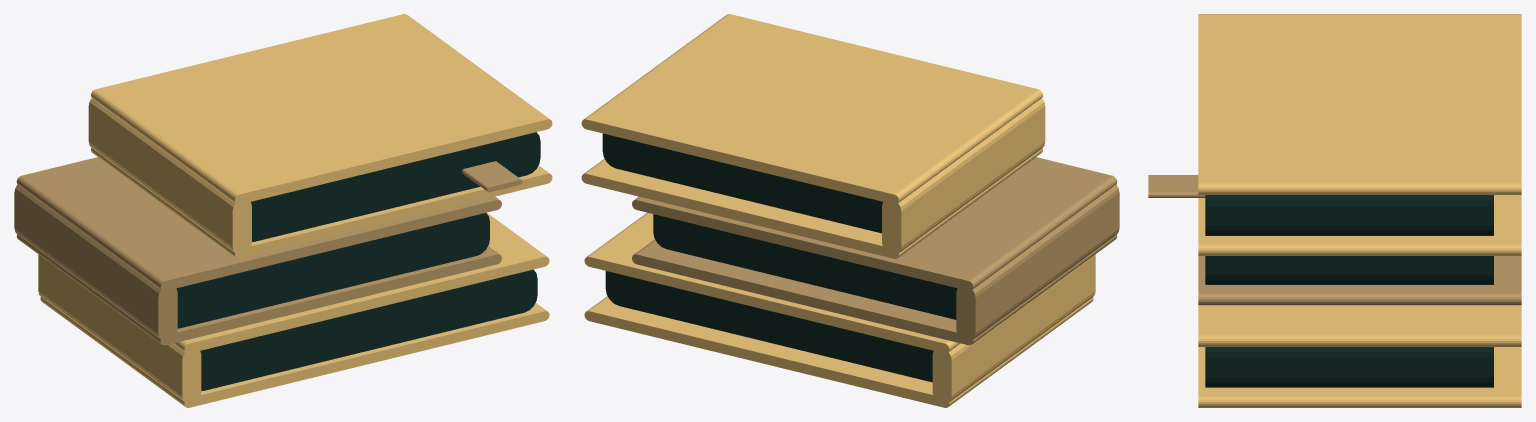
Rendered from books.glb.
3 views of the same model, side by side, from view 1: azimuth 30°, elevation 25°; view 2: azimuth 150°, elevation 25°; view 3: azimuth 270°, elevation 25° (orthographic). The views are drawn at different scales.
Parts seen in each view (by area): view 1: cover 2 0.175, cover 1 0.175, pages 0, pages 1, pages 2, spine 2, spine 1, spine 0, cover 0 0.175, cover 0 0, cover 1 0, cover 2 0 (+1 smaller); view 2: cover 2 0.175, cover 1 0.175, pages 0, pages 1, pages 2, cover 0 0, spine 1, cover 1 0, spine 2, cover 2 0, spine 0, cover 0 0.175; view 3: cover 2 0.175, cover 0 0.175, pages 0, pages 2, pages 1, cover 0 0, cover 2 0, cover 1 0, ribbon.
Part boxes in pixels (x1,y1,x2,y2): cover 2 0.175: (91, 14, 552, 204); cover 1 0.175: (16, 157, 501, 290); pages 0: (200, 269, 537, 390); pages 1: (176, 213, 489, 328); pages 2: (251, 132, 540, 241); spine 2: (88, 98, 251, 254); spine 1: (14, 184, 177, 341); spine 0: (38, 254, 201, 403); cover 0 0.175: (173, 212, 549, 353); cover 0 0: (40, 297, 549, 407); cover 1 0: (16, 234, 501, 345); cover 2 0: (91, 148, 552, 258); cover 2 0.175: (581, 14, 1042, 204); cover 1 0.175: (632, 157, 1117, 290); pages 0: (605, 271, 933, 382); pages 1: (653, 214, 957, 319); pages 2: (602, 133, 882, 233); cover 0 0: (584, 296, 1093, 407); spine 1: (956, 184, 1119, 341); cover 1 0: (632, 234, 1117, 345); spine 2: (882, 98, 1045, 254); cover 2 0: (581, 148, 1042, 258); spine 0: (932, 254, 1095, 403); cover 0 0.175: (584, 212, 960, 353); cover 2 0.175: (1198, 14, 1521, 194); cover 0 0.175: (1198, 305, 1521, 346); pages 0: (1205, 347, 1493, 387); pages 2: (1205, 195, 1493, 235); pages 1: (1205, 256, 1493, 284); cover 0 0: (1198, 347, 1521, 407); cover 2 0: (1198, 195, 1521, 255); cover 1 0: (1198, 256, 1521, 305); ribbon: (1148, 175, 1205, 197).
Size of the model in its own units: 1.33 by 0.647 by 0.97.
